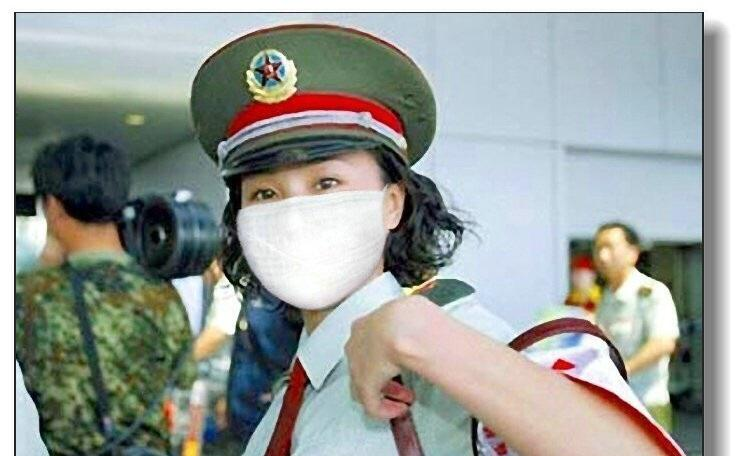NONE: (595, 232, 638, 277)
OK: (242, 148, 383, 308)
